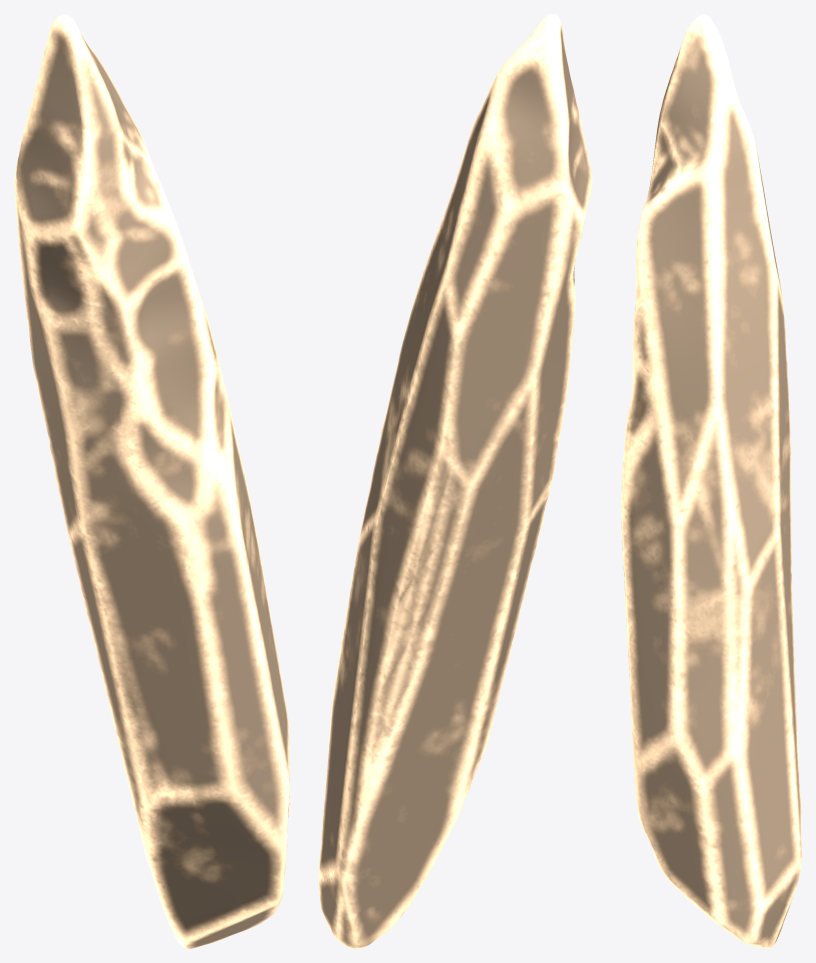
File: PBR - Metallic Roughness Alpha-test.gltf
3 views of the same model, side by side, from view 1: azimuth 30°, elevation 25°; view 2: azimuth 150°, elevation 25°; view 3: azimuth 270°, elevation 25° (orthographic). The views are drawn at different scales.
Parts seen in each view (by area): view 1: Crystal_lo; view 2: Crystal_lo; view 3: Crystal_lo.
Part boxes in pixels (<box>): Crystal_lo: <box>14,14,289,948</box>; Crystal_lo: <box>318,14,592,948</box>; Crystal_lo: <box>621,14,801,948</box>.
Size of the model in its own units: 0.00394 by 0.0147 by 0.00281.
1 material, 1 textured.
